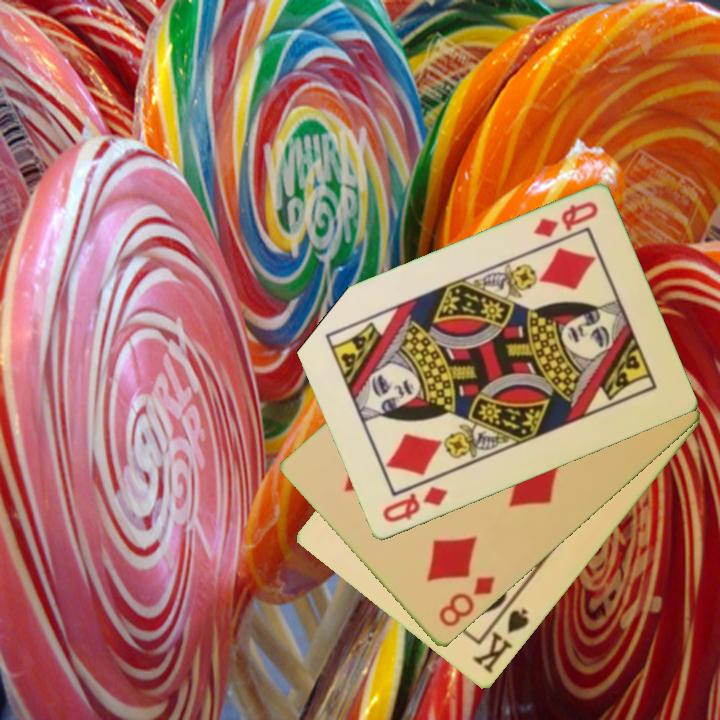8d: (435, 573, 498, 631)
Ks: (469, 597, 532, 677)
Qd: (529, 198, 601, 242), (378, 483, 451, 526)
